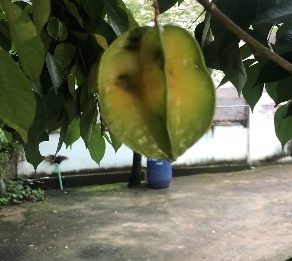Khe: (96, 22, 218, 164)
